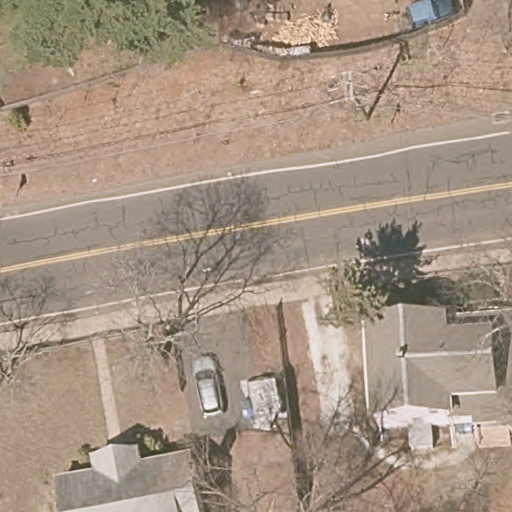DT: (327, 69, 372, 119)
